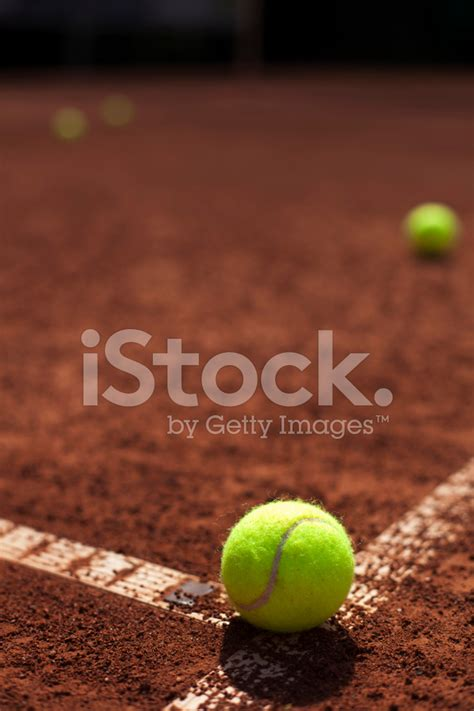tennis_ball: (219, 497, 355, 633), (405, 202, 458, 254)
